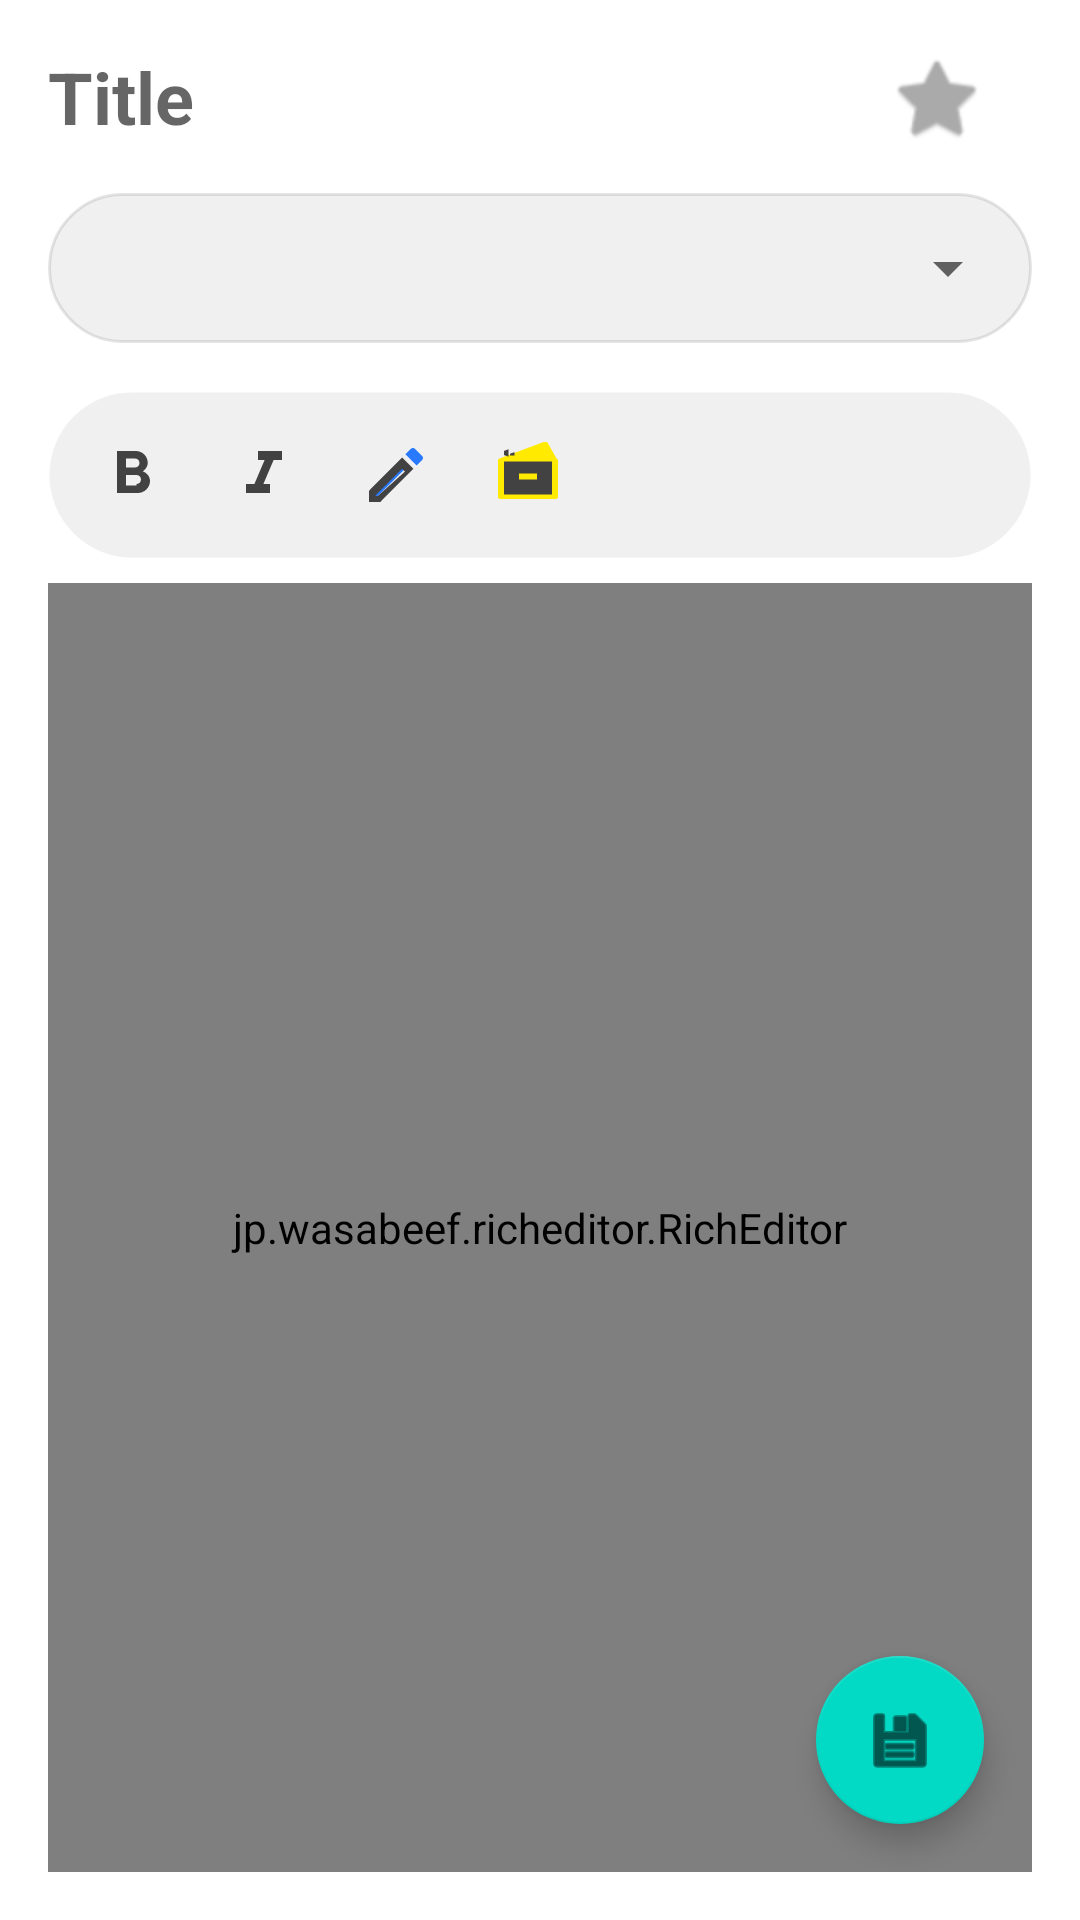

Named icons in this screenshot (1080px x 1920px) and their centers, (x=x, y=y):
format: (x=133, y=472)
format italic: (x=264, y=472)
highlighter: (x=528, y=470)
pen: (x=396, y=475)
save: (x=900, y=1740)
